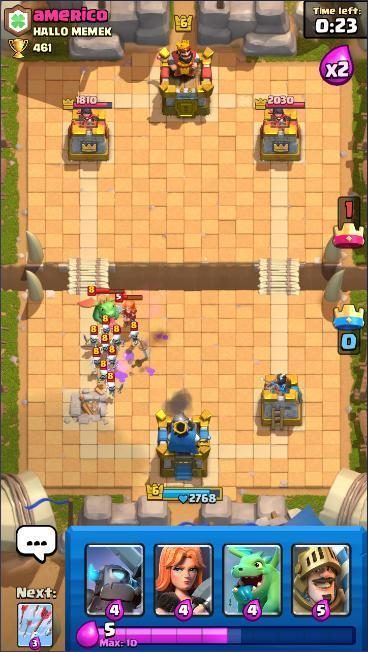enemy_baby_dragon: (77, 283, 125, 327)
enemy_skeleton: (104, 371, 126, 399), (94, 357, 113, 384), (125, 319, 142, 347), (83, 324, 102, 349), (89, 345, 106, 372), (108, 324, 126, 349), (97, 334, 113, 359), (105, 343, 120, 368), (98, 314, 113, 336)
enemy_valkyrie: (114, 289, 144, 326)
